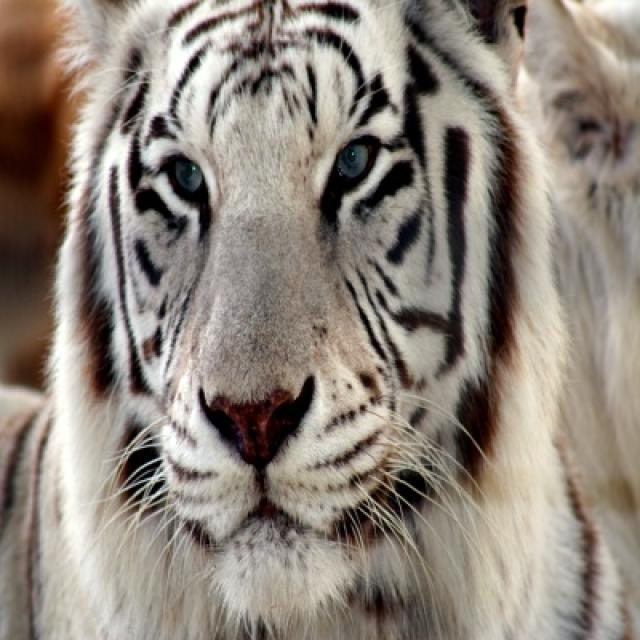Tiger: (0, 3, 638, 638)
